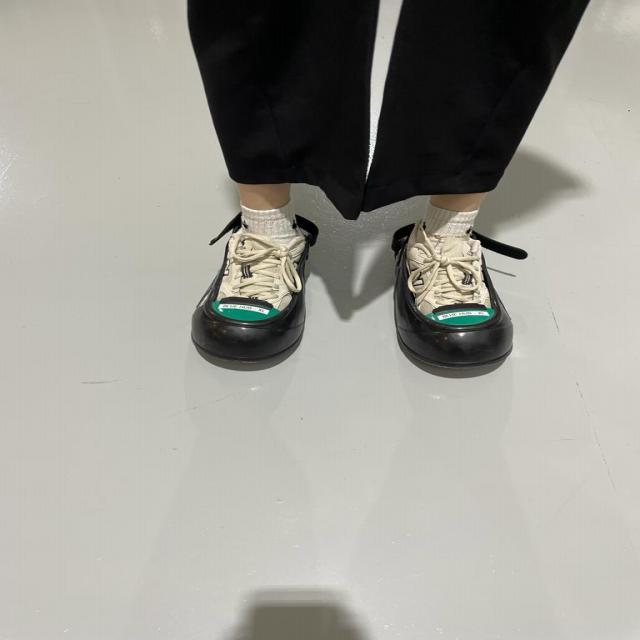shoes: (388, 215, 524, 385), (190, 200, 322, 372)
